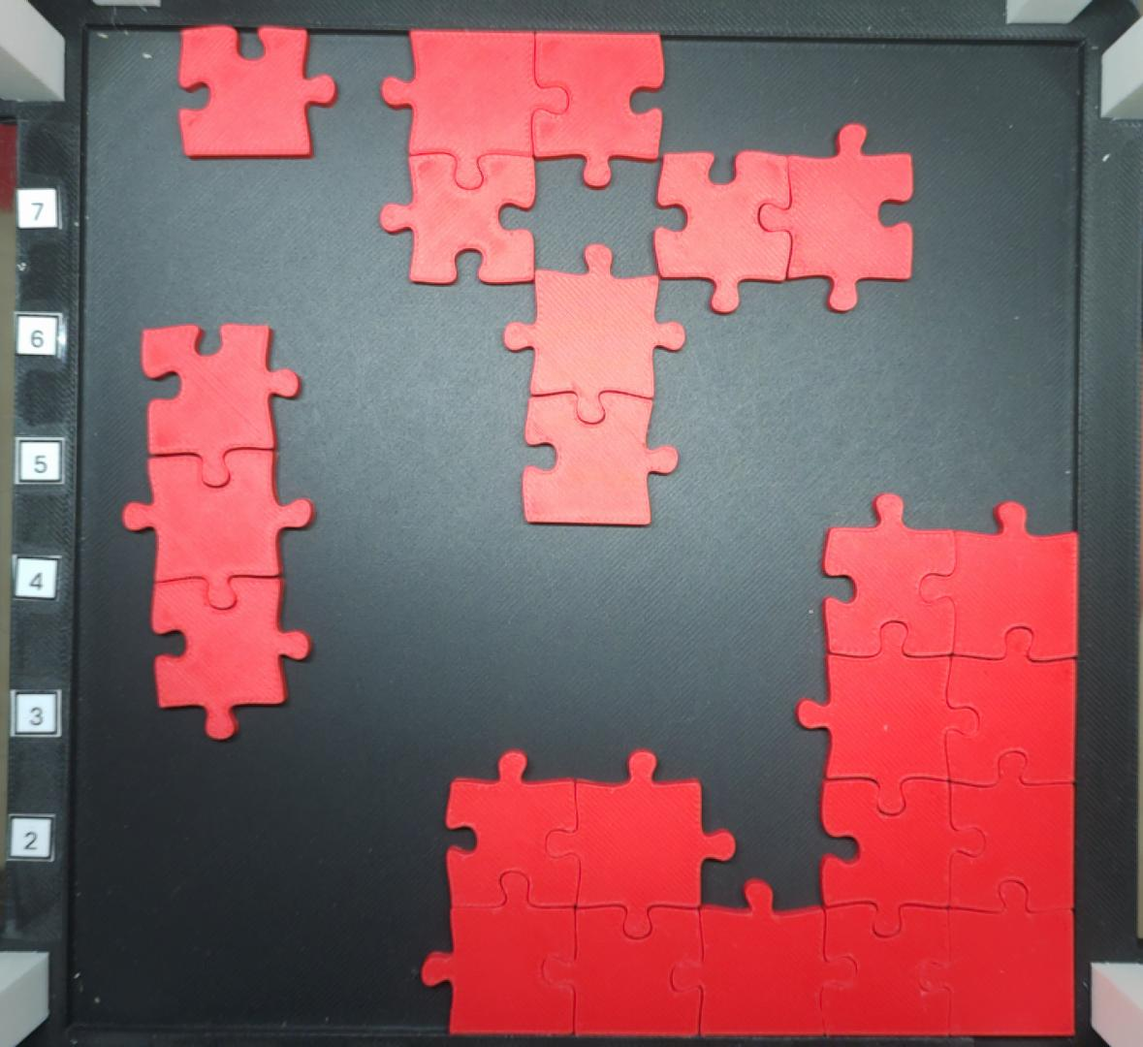p_1: (180, 21, 336, 161)
p_2: (502, 243, 689, 530), (651, 122, 915, 315)
p_3: (120, 326, 313, 746), (381, 29, 667, 288)
p_m: (423, 492, 1075, 1042)
